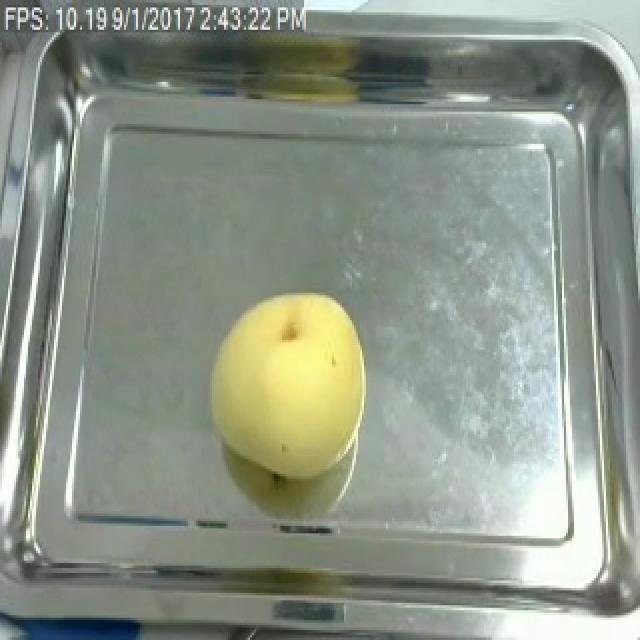Fruit: (200, 280, 376, 487)
